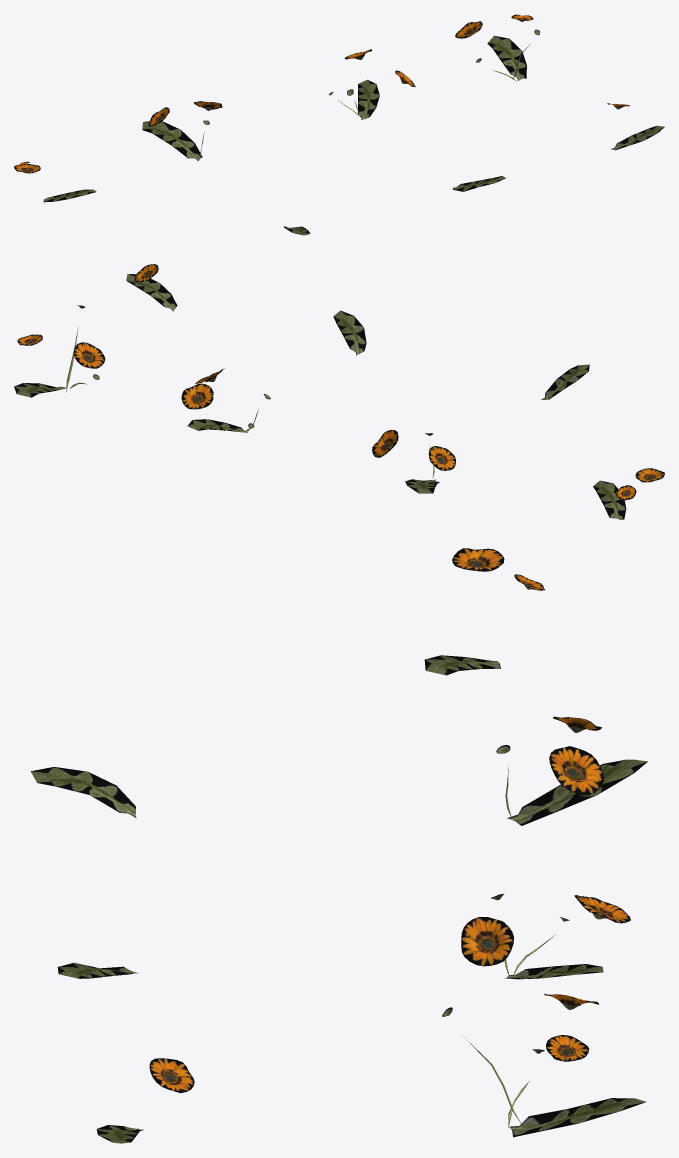
The model's file is flower_gazania.lod.glb.
3 renders of one model, top to bottom at view 1: azimuth 30°, elevation 25°; view 2: azimuth 150°, elevation 25°; view 3: azimuth 270°, elevation 25°, orthographic. The views are drawn at different scales.
Visible parts, largest first — view 1: flower_gazania_a_LOD0; view 2: flower_gazania_a_LOD0; view 3: flower_gazania_a_LOD0.
Part boxes in pixels (<box>): flower_gazania_a_LOD0: <box>14,14,664,235</box>; flower_gazania_a_LOD0: <box>14,264,664,519</box>; flower_gazania_a_LOD0: <box>31,548,647,1143</box>.
Bounding box in the file's own units: 1.4 × 0.1517 × 0.6734.
Materials: 1 (1 with a texture image).
